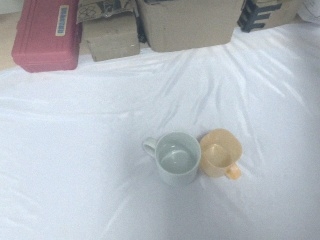box: (133, 1, 249, 52), (238, 1, 317, 32)
cup: (142, 132, 202, 188), (199, 130, 246, 182)
